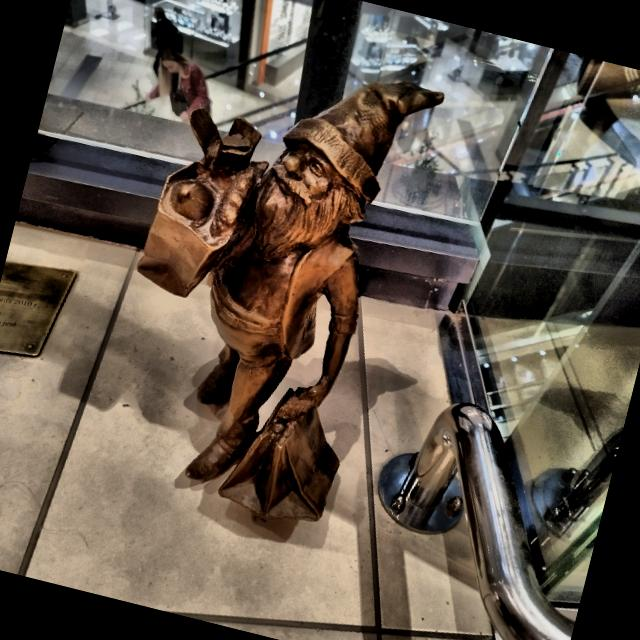Trendus: (137, 82, 443, 520)
